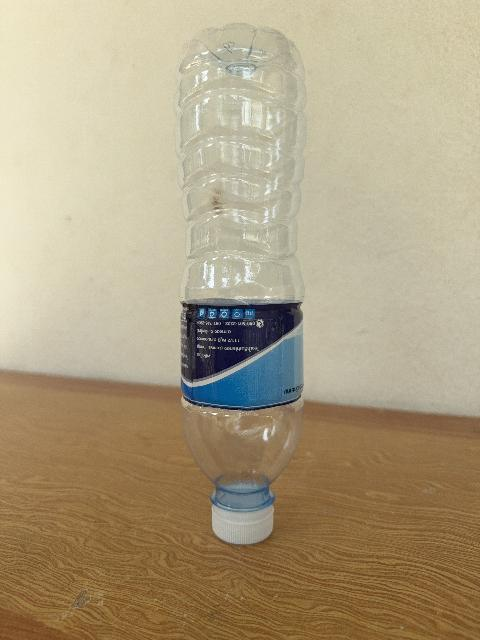bottle: (176, 24, 305, 544)
